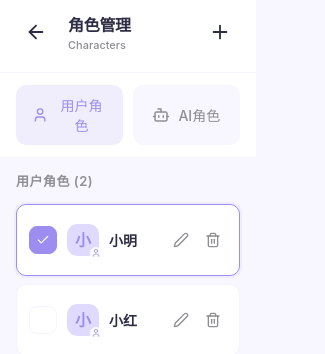
Test: RoleManagementPage 列表与选中 › 切到 AI 页签：展示版本 / 作者元信息
Click the button with class "tab-btn" showing "AI角色" at (186, 115), box [133,85,240,145]
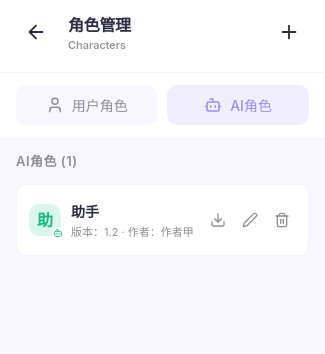
Expected: the button with class "tab-btn" reads "AI角色", [167,85,309,125]
Result: the text "AI角色 (1)" is shown at [16,153,78,169]
Result: the text with class "character-meta" reads "版本：1.2 · 作者：作者甲" at [71,225,194,239]
